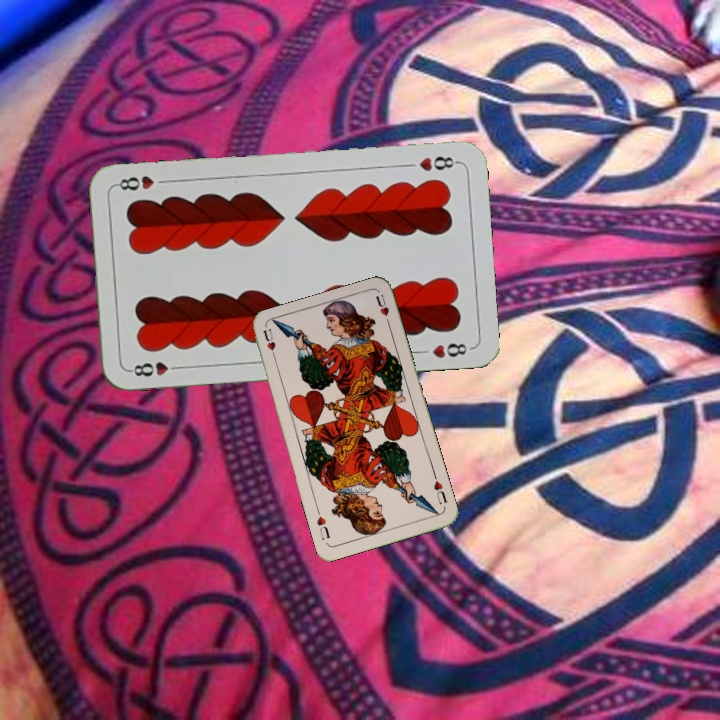H8: (125, 358, 184, 379), (415, 152, 461, 174)
HU: (259, 324, 279, 364), (430, 471, 450, 507)
